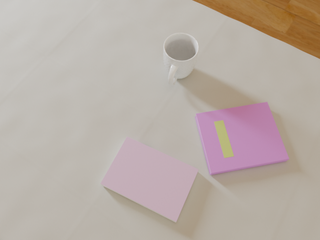book: (101, 137, 198, 222), (195, 102, 289, 175)
cup: (163, 33, 199, 85)
